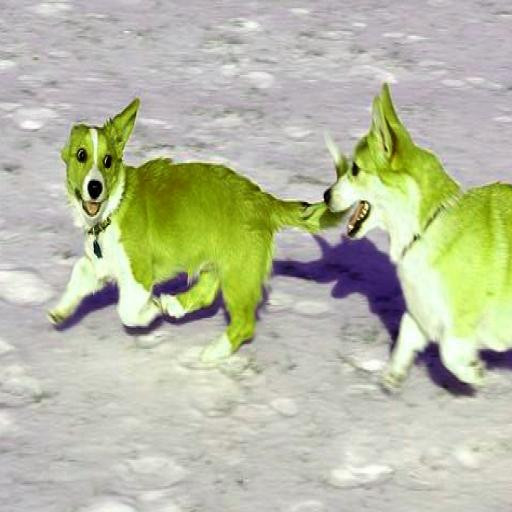dog_face: (327, 90, 403, 244), (62, 96, 140, 214)
